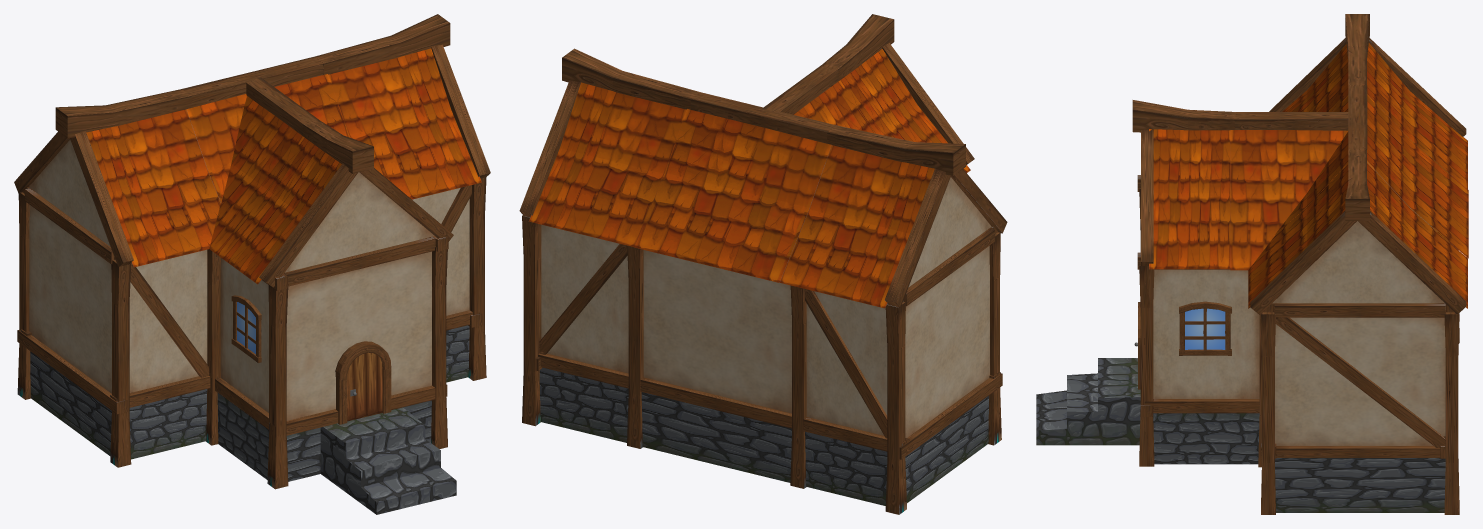
The model's file is fantasy_house (1).glb.
3 renders of one model, left to right at view 1: azimuth 30°, elevation 25°; view 2: azimuth 150°, elevation 25°; view 3: azimuth 270°, elevation 25°, orthographic. The views are drawn at different scales.
Visible parts, largest first — view 1: Plane.011_14, Plane.027_36, Plane.014_50, Plane.024_59, Cube.020_18, Plane.007_40, Plane.004_7, Plane.003_0, Plane.009_10, Plane.006_56, Plane.021_22, Plane.023_58 (+33 smaller); view 2: Plane.030_38, Plane.029_71, Plane.015_52, Plane.008_43, Plane.024_59, Plane.028_69, Plane.025_67, Plane.034_77, Plane.032_75, Plane.004_7, Plane.033_76, Plane.036_79 (+23 smaller); view 3: Plane.031_73, Plane.005_8, Plane.019_24, Plane.010_12, Plane.035_78, Cube.020_18, Plane.013_44, Plane.030_38, Plane.022_29, Plane.008_43, Plane.015_52, Plane.014_50 (+20 smaller).
Boxes of the visible parts, x1,y1,x2,y2 form: Plane.011_14: [286, 251, 431, 420]; Plane.027_36: [86, 109, 220, 267]; Plane.014_50: [328, 48, 481, 199]; Plane.024_59: [29, 205, 111, 393]; Cube.020_18: [320, 407, 456, 514]; Plane.007_40: [115, 249, 207, 392]; Plane.004_7: [217, 137, 341, 284]; Plane.003_0: [285, 172, 434, 272]; Plane.009_10: [209, 96, 303, 254]; Plane.006_56: [186, 74, 350, 203]; Plane.021_22: [220, 258, 268, 412]; Plane.023_58: [129, 389, 207, 459]; Plane.030_38: [634, 109, 831, 282]; Plane.029_71: [643, 250, 791, 413]; Plane.015_52: [528, 82, 686, 247]; Plane.008_43: [780, 145, 934, 308]; Plane.024_59: [905, 246, 989, 437]; Plane.028_69: [541, 224, 628, 373]; Plane.025_67: [806, 291, 903, 435]; Plane.034_77: [641, 392, 791, 482]; Plane.032_75: [539, 367, 628, 442]; Plane.004_7: [840, 49, 970, 172]; Plane.033_76: [805, 431, 887, 505]; Plane.036_79: [905, 396, 988, 502]; Plane.031_73: [1275, 309, 1445, 445]; Plane.005_8: [1149, 129, 1230, 269]; Plane.019_24: [1153, 269, 1259, 398]; Plane.010_12: [1230, 130, 1347, 270]; Plane.035_78: [1275, 458, 1445, 512]; Cube.020_18: [1036, 358, 1140, 445]; Plane.013_44: [1272, 221, 1445, 308]; Plane.030_38: [1367, 94, 1468, 258]; Plane.022_29: [1153, 413, 1259, 464]; Plane.008_43: [1367, 43, 1467, 188]; Plane.015_52: [1367, 162, 1467, 308]; Plane.014_50: [1248, 163, 1348, 308].
Bounding box in the file's own units: 9.61 × 7.74 × 9.5.
Materials: 1 (1 with a texture image).
